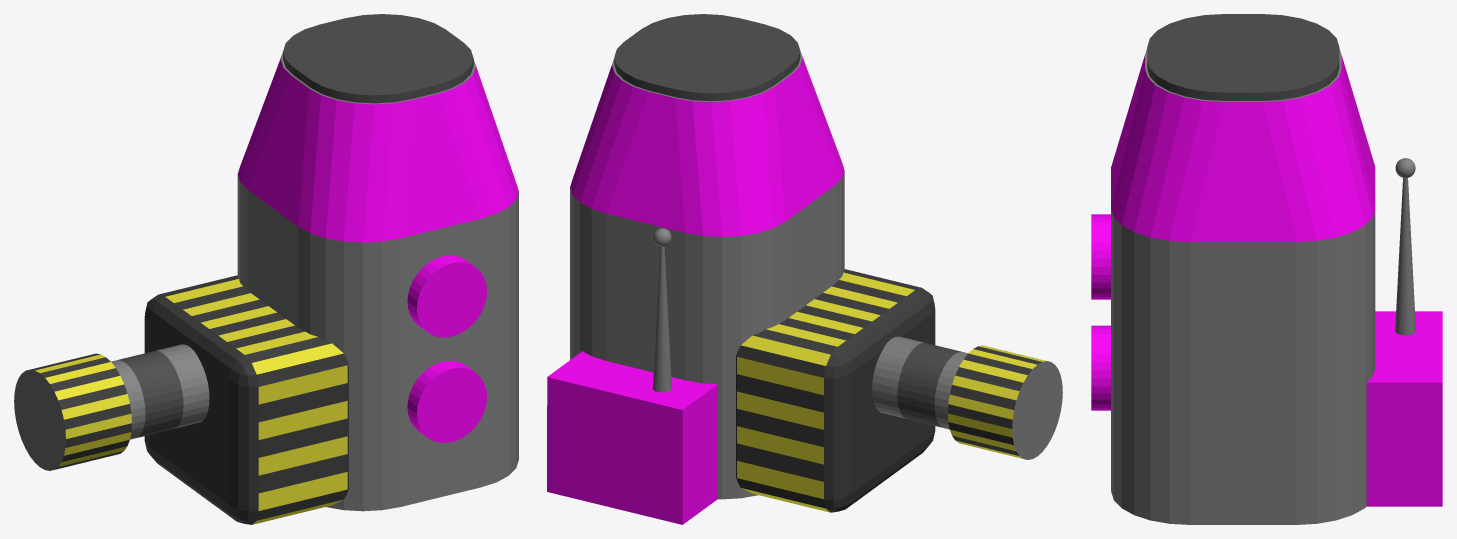
Rendered from nuclearAddOn.fbx.
The picture shows the model from 3 angles, left to right: view 1: azimuth 30°, elevation 25°; view 2: azimuth 150°, elevation 25°; view 3: azimuth 270°, elevation 25°; orthographic projection. The views are drawn at different scales.
Parts seen in each view (by area): view 1: Cylinder.059; view 2: Cylinder.059; view 3: Cylinder.059.
Part boxes in pixels (x1,y1,x2,y2): Cylinder.059: (14,14,518,524); Cylinder.059: (547,14,1062,524); Cylinder.059: (1091,14,1442,524).
Size of the model in its own units: 197 by 168 by 128.
